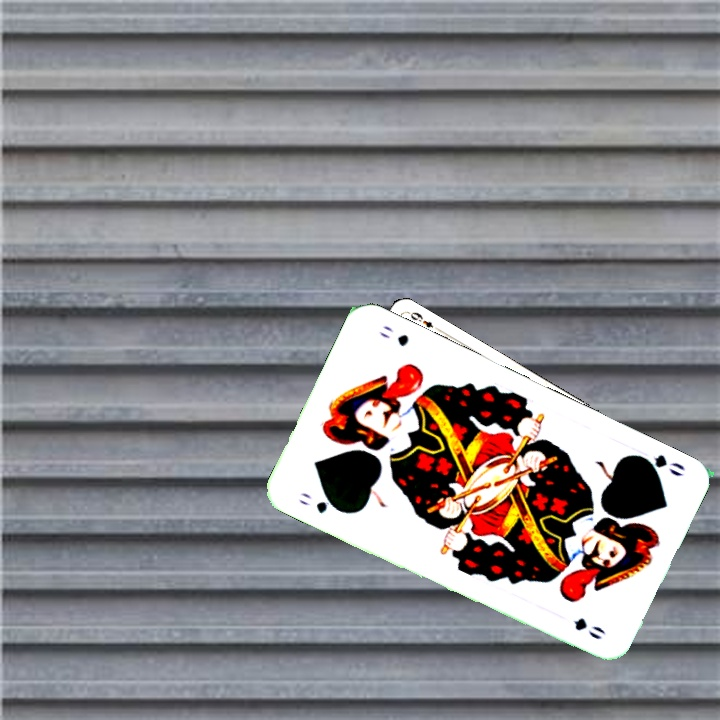GO: (629, 450, 688, 479), (296, 488, 346, 516)
